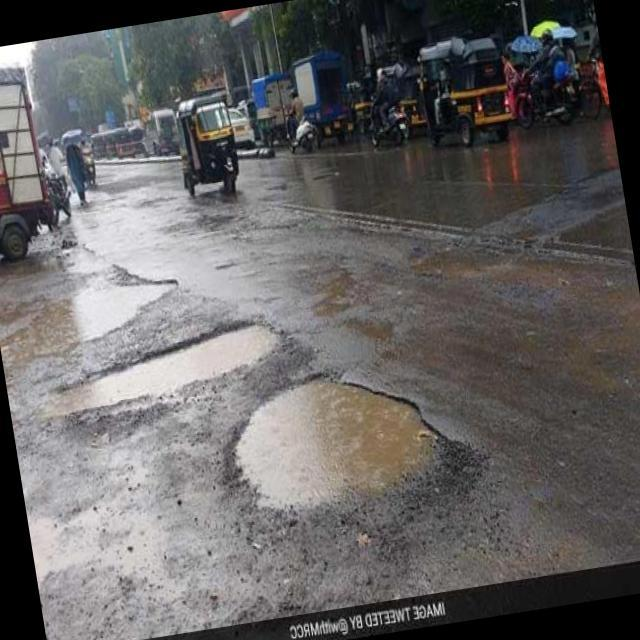Pothole: (236, 380, 434, 509), (38, 324, 277, 420), (0, 286, 170, 359)
